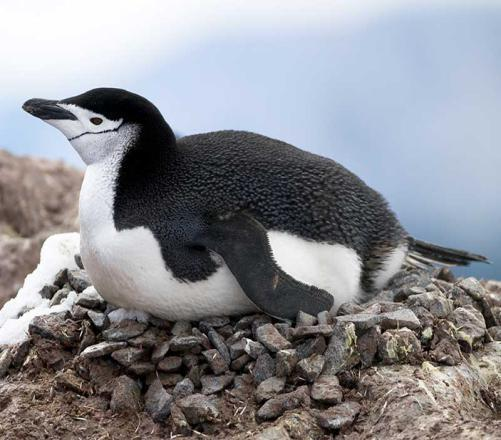chinstrap: (5, 68, 453, 351)
